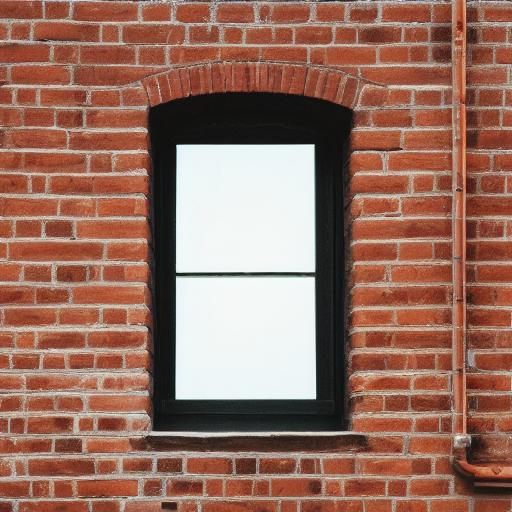Window: (143, 60, 369, 451)
